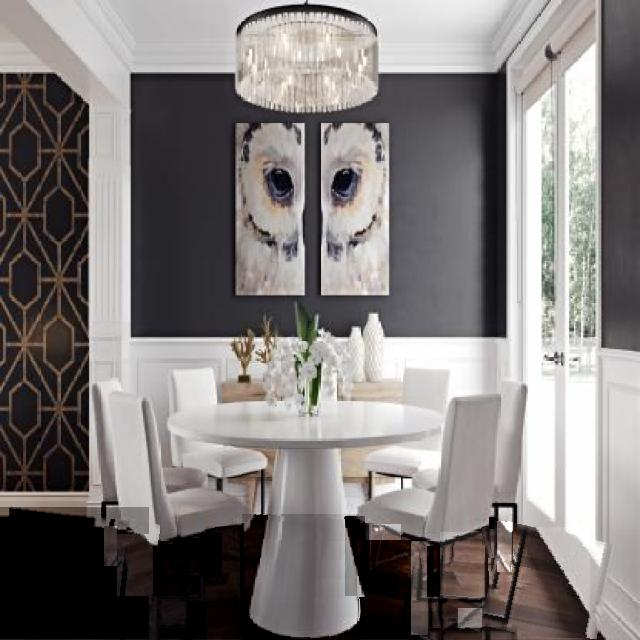floor: (0, 507, 149, 640), (243, 514, 359, 640), (482, 528, 590, 639), (358, 541, 420, 640), (207, 526, 244, 640), (440, 533, 486, 599), (118, 534, 161, 596), (153, 545, 190, 596), (160, 602, 206, 640), (345, 517, 365, 596), (412, 541, 428, 635), (492, 559, 514, 626), (482, 528, 502, 597), (369, 524, 401, 563), (200, 533, 222, 578), (442, 595, 486, 617), (156, 598, 187, 628), (428, 547, 444, 597), (418, 544, 433, 597), (498, 521, 512, 572), (459, 608, 486, 628), (105, 526, 117, 566), (189, 539, 199, 573), (443, 632, 484, 640), (174, 540, 186, 566), (430, 601, 441, 627), (187, 575, 199, 595), (490, 517, 495, 529), (430, 634, 438, 639)
